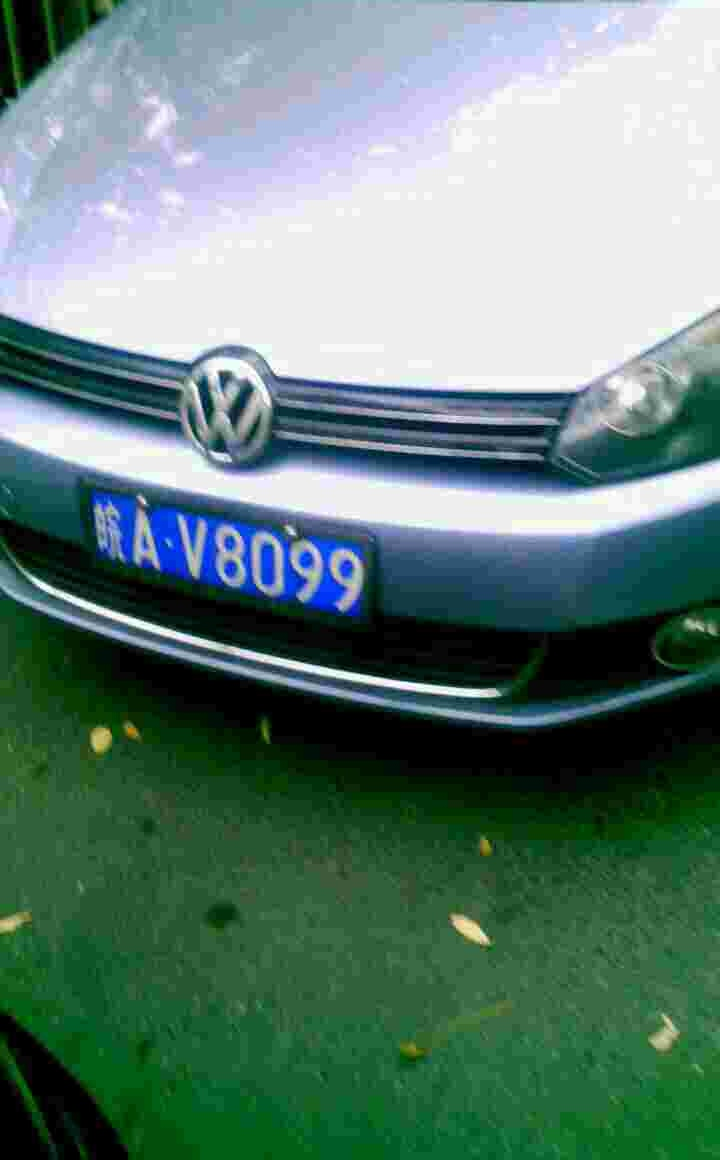license_plate: (86, 493, 366, 617)
